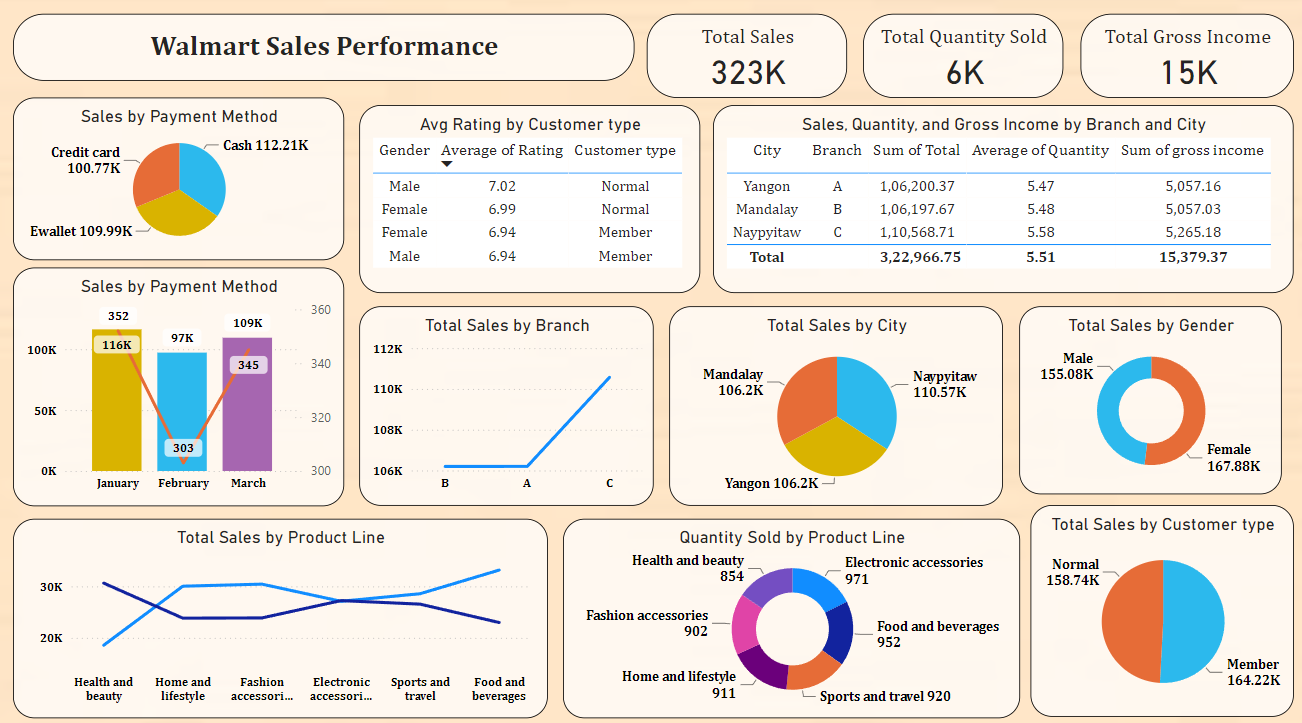

The page's visual inventory and layout, read from the dashboard file:
{"tool":"powerbi","page":{"name":"Page 1","canvas":[1280,720],"ordinal":0},"visuals":[{"type":"textbox","box":[19.2,17.8,607.9,65.9],"z":0},{"type":"card","title":"Total Sales","fields":{"Values":["Sum(WalmartSalesData csv.Total)"]},"box":[639.5,17.8,196.2,82.3],"z":1000},{"type":"card","title":"Total Quantity Sold","fields":{"Values":["Sum(WalmartSalesData csv.Quantity)"]},"box":[850.8,17.8,196.2,82.3],"z":2000},{"type":"card","title":"Total Gross Income","fields":{"Values":["Sum(WalmartSalesData csv.gross income)"]},"box":[1063.5,17.8,208.6,82.3],"z":3000},{"type":"pieChart","title":" Total Sales by City","fields":{"Y":["Sum(WalmartSalesData csv.Total)"],"Category":["WalmartSalesData csv.City"]},"box":[661.4,304.6,326.6,194.9],"z":4000},{"type":"tableEx","title":"Sales, Quantity, and Gross Income by Branch and City","fields":{"Values":["WalmartSalesData csv.City","WalmartSalesData csv.Branch","Sum(WalmartSalesData csv.Total)","Avg(WalmartSalesData csv.Quantity)","Sum(WalmartSalesData csv.gross income)"]},"box":[703.9,107,568.1,183.9],"z":5000},{"type":"lineChart","title":"Total Sales by Branch","fields":{"Category":["WalmartSalesData csv.Branch"],"Y":["Sum(WalmartSalesData csv.Total)"]},"box":[358.1,304.6,288.2,194.9],"z":6000},{"type":"pieChart","title":"Total Sales by Customer type","fields":{"Y":["Sum(WalmartSalesData csv.Total)"],"Category":["WalmartSalesData csv.Customer type"]},"box":[1015.4,499.5,258,207.2],"z":7000},{"type":"donutChart","title":"Total Sales by Gender","fields":{"Category":["WalmartSalesData csv.Gender"],"Y":["Sum(WalmartSalesData csv.Total)"]},"box":[1004.5,304.6,256.6,183.9],"z":8000},{"type":"tableEx","title":"Avg Rating by Customer type ","fields":{"Values":["WalmartSalesData csv.Gender","Avg(WalmartSalesData csv.Rating)","WalmartSalesData csv.Customer type"]},"box":[358.1,107,333.4,183.9],"z":9000},{"type":"lineChart","title":"Total Sales by Product Line","fields":{"Category":["WalmartSalesData csv.Product line"],"Y":["Sum(WalmartSalesData csv.Total)"],"Series":["WalmartSalesData csv.Gender"]},"box":[19.2,511.8,522.8,194.9],"z":10000},{"type":"donutChart","title":"Quantity Sold by Product Line","fields":{"Y":["Sum(WalmartSalesData csv.Quantity)"],"Category":["WalmartSalesData csv.Product line"]},"box":[557.1,511.8,447.3,194.9],"z":11000},{"type":"pieChart","title":"Sales by Payment Method","fields":{"Category":["WalmartSalesData csv.Payment"],"Y":["Sum(WalmartSalesData csv.Total)"]},"box":[19.2,100.2,323.8,159.2],"z":12000},{"type":"lineStackedColumnComboChart","title":"Sales by Payment Method","fields":{"Y":["Sum(WalmartSalesData csv.Total)"],"Y2":["CountNonNull(WalmartSalesData csv.Payment)"],"Category":["WalmartSalesData csv.Date.Variation.Date Hierarchy.Month"]},"box":[19.2,266.2,323.8,233.3],"z":13000}]}

Visuals, with their boxes in screenshot pixels (x1, y1, x2, y2), scaled from the page's 1280x720 canvas onto the 1302x723 screenshot:
textbox: [20, 18, 638, 84]
"Total Sales" card: [650, 18, 850, 101]
"Total Quantity Sold" card: [865, 18, 1065, 101]
"Total Gross Income" card: [1082, 18, 1294, 101]
" Total Sales by City" pieChart: [673, 306, 1005, 502]
"Sales, Quantity, and Gross Income by Branch and City" tableEx: [716, 107, 1294, 292]
"Total Sales by Branch" lineChart: [364, 306, 657, 502]
"Total Sales by Customer type" pieChart: [1033, 502, 1295, 710]
"Total Sales by Gender" donutChart: [1022, 306, 1283, 491]
"Avg Rating by Customer type " tableEx: [364, 107, 703, 292]
"Total Sales by Product Line" lineChart: [20, 514, 551, 710]
"Quantity Sold by Product Line" donutChart: [567, 514, 1022, 710]
"Sales by Payment Method" pieChart: [20, 101, 349, 260]
"Sales by Payment Method" lineStackedColumnComboChart: [20, 267, 349, 502]
